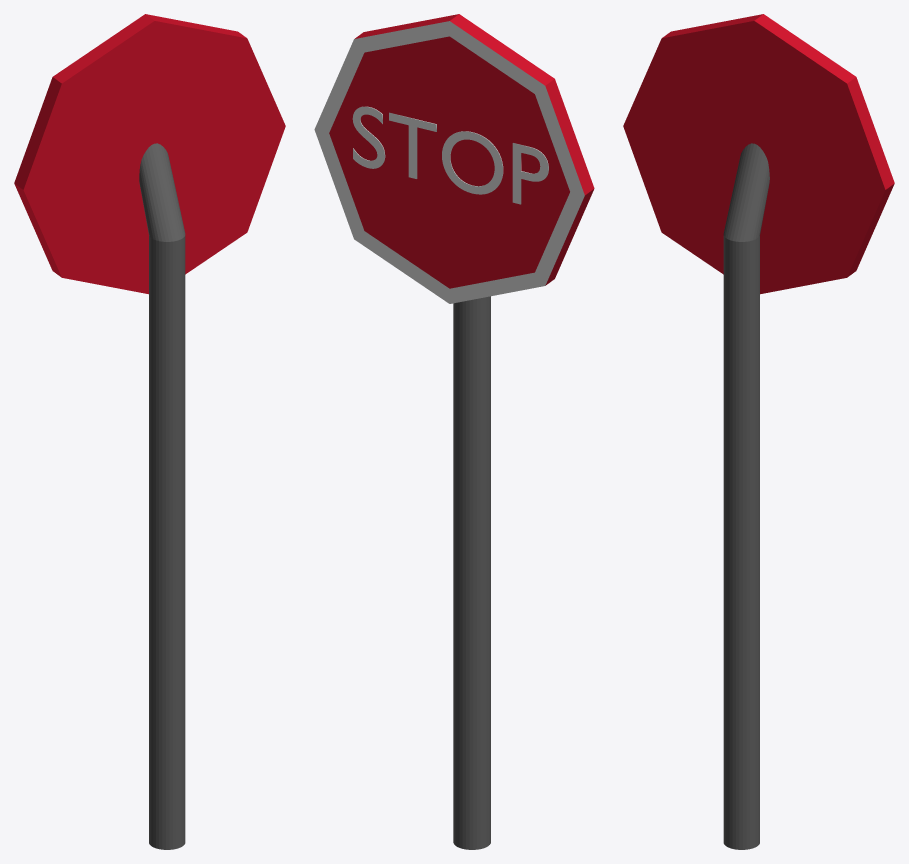
The model's file is Stop_Sign.fbx.
3 views of the same model, side by side, from view 1: azimuth 30°, elevation 25°; view 2: azimuth 150°, elevation 25°; view 3: azimuth 330°, elevation 25° (orthographic). The views are drawn at different scales.
Visible parts, largest first — view 1: Sign, Sting; view 2: Sign, Sting, Stop; view 3: Sign, Sting.
Boxes of the visible parts, <box> form: Sign: <box>14,14,285,294</box>; Sting: <box>139,143,185,849</box>; Sign: <box>314,14,594,303</box>; Sting: <box>453,296,490,849</box>; Stop: <box>352,106,548,204</box>; Sign: <box>623,14,894,294</box>; Sting: <box>723,143,769,849</box>.
Bounding box in the file's own units: 58.8 × 174 × 12.15.
